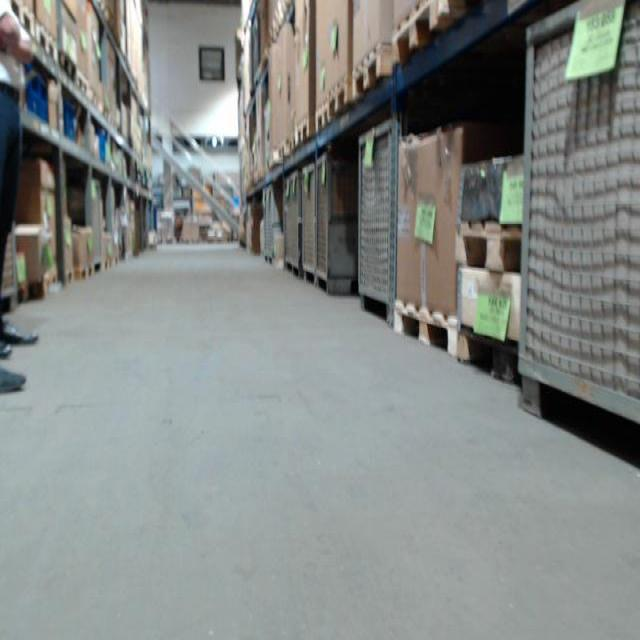pallet: (392, 300, 460, 361), (454, 221, 526, 275), (392, 0, 439, 66), (354, 43, 391, 98), (328, 78, 354, 122), (10, 0, 34, 40), (36, 23, 59, 64), (296, 117, 313, 146), (315, 105, 328, 133), (205, 236, 226, 245), (157, 237, 176, 245)
stillage: (510, 3, 640, 479), (352, 110, 436, 325), (317, 149, 351, 295), (301, 158, 318, 292), (267, 182, 284, 266), (283, 175, 292, 275), (291, 171, 299, 278), (258, 184, 268, 262)
